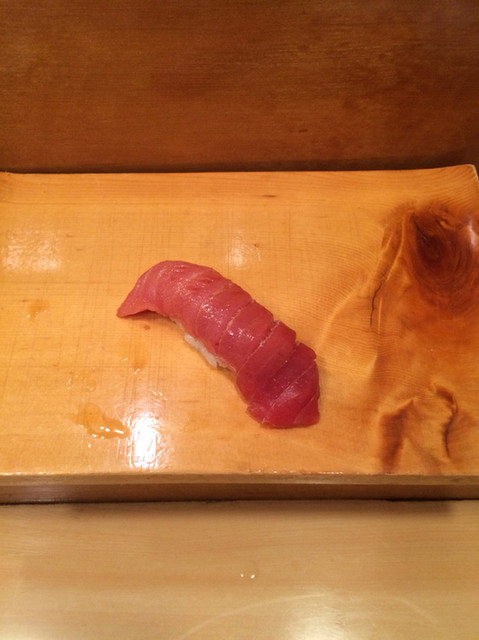medium_fatty_tuna: (116, 258, 322, 431)
